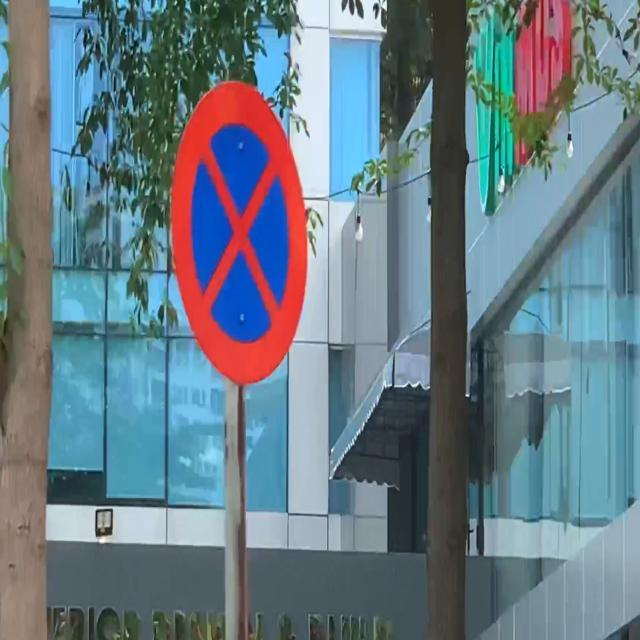Cam dung va do: (171, 80, 309, 386)
